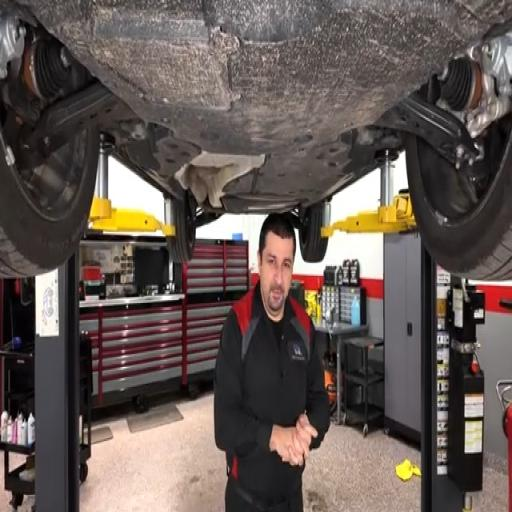tire: (406, 119, 511, 280), (0, 128, 99, 277), (298, 202, 328, 263)
wheel: (406, 116, 511, 280), (0, 128, 99, 277), (167, 194, 195, 263)
